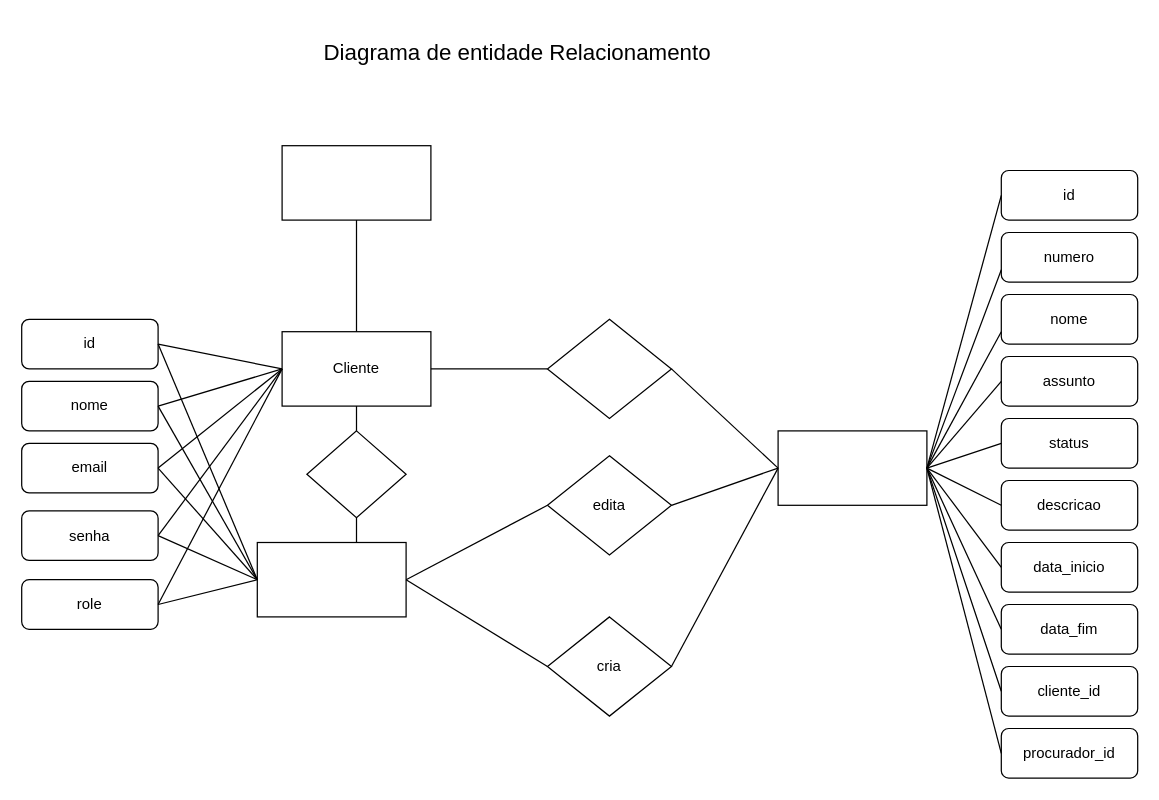
This 1159x800 diagram has some shape labels left out. Here are the shapes that lost their labels. From the top down, the centre of each, then its label:
At point (356, 182): "Usuários".
At point (608, 368): "visualiza".
At point (356, 474): "processo".
At point (852, 467): "Processos".
At point (331, 579): "Procurador".
